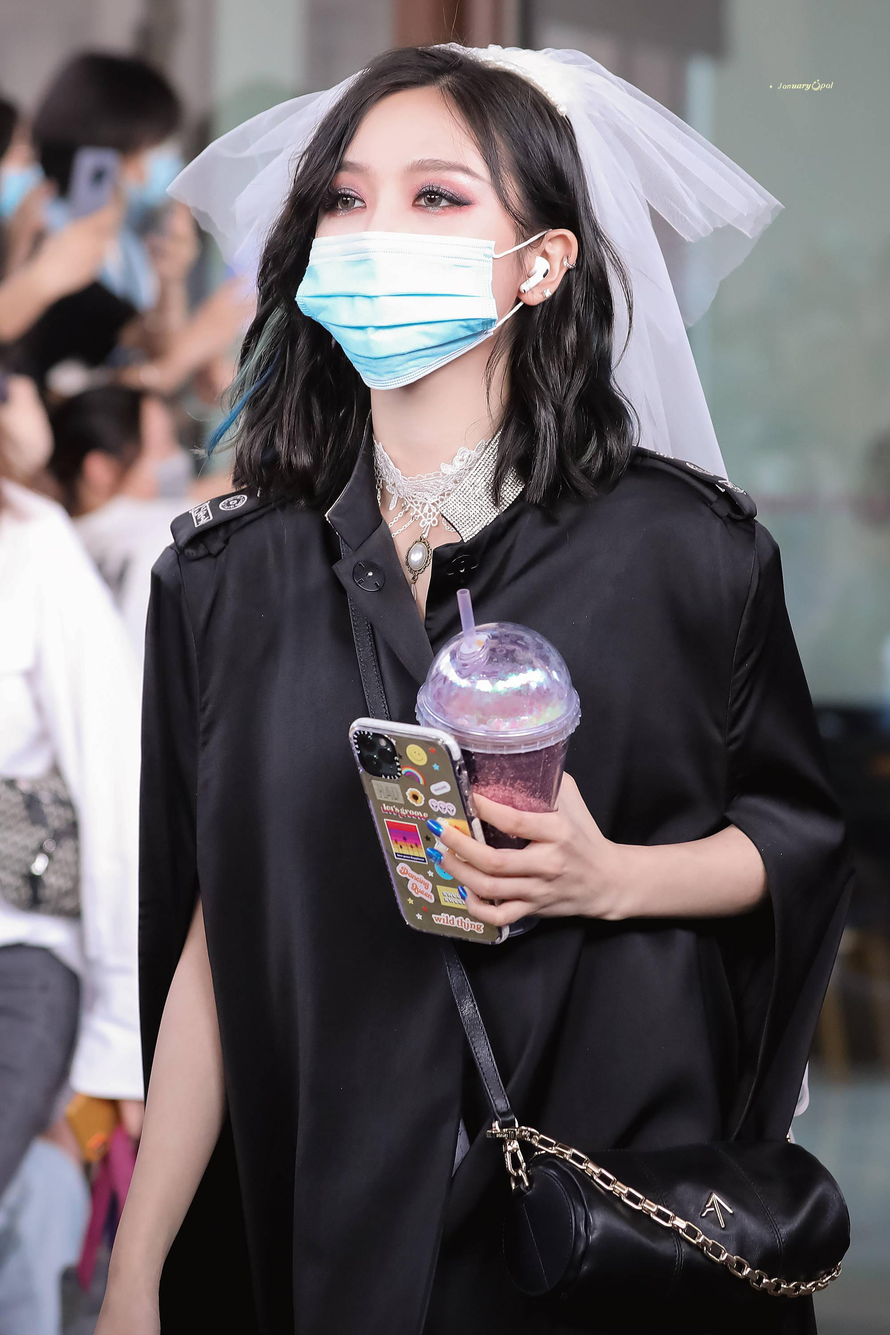OK: (303, 137, 502, 390)
